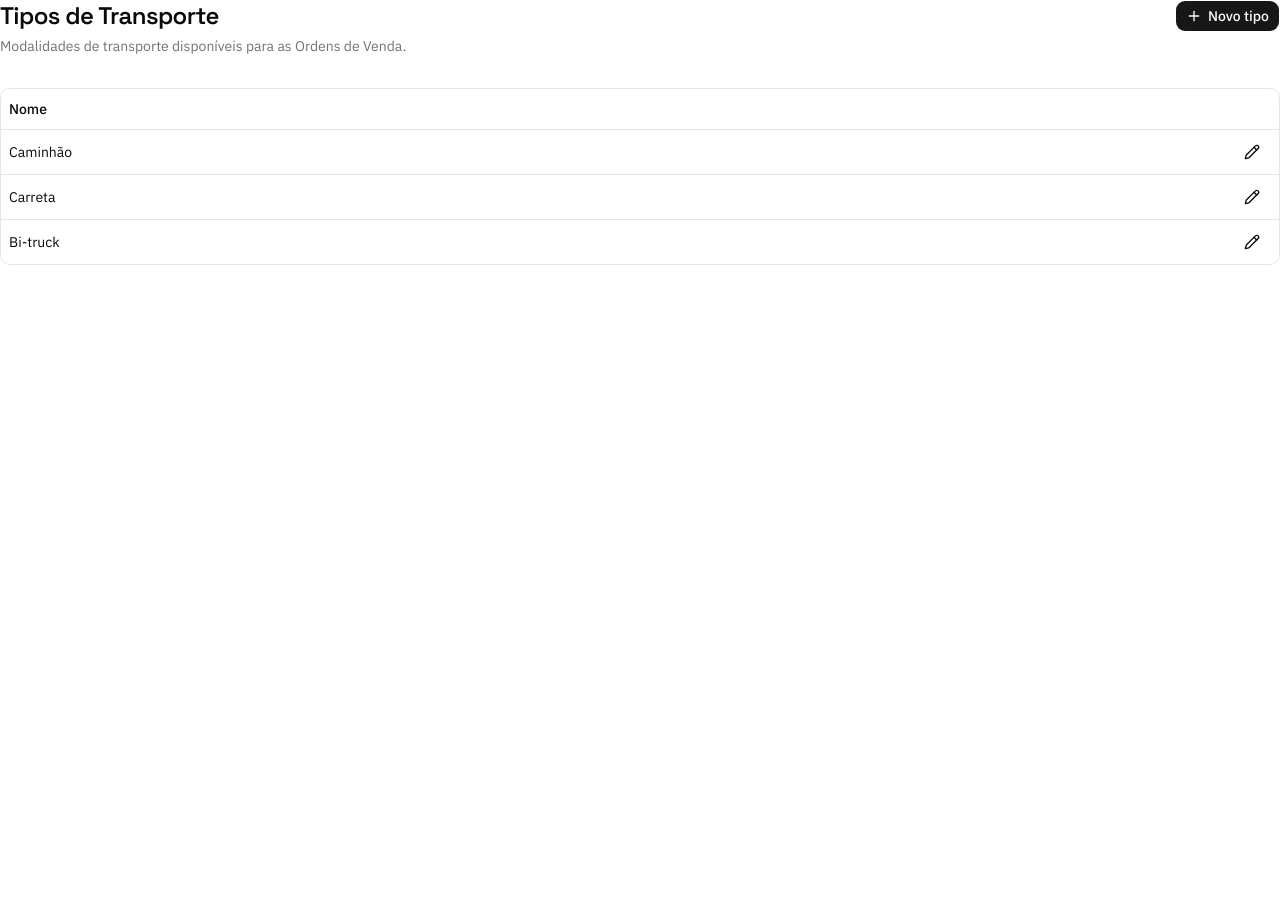
Scenario: TransportTypesView (integração) › edita um tipo de transporte existente
Expected: the text "Caminhão" is shown, [1, 129, 1215, 174]
Click the button named "Editar Caminhão" at point(1252, 152), box [1233, 138, 1271, 166]
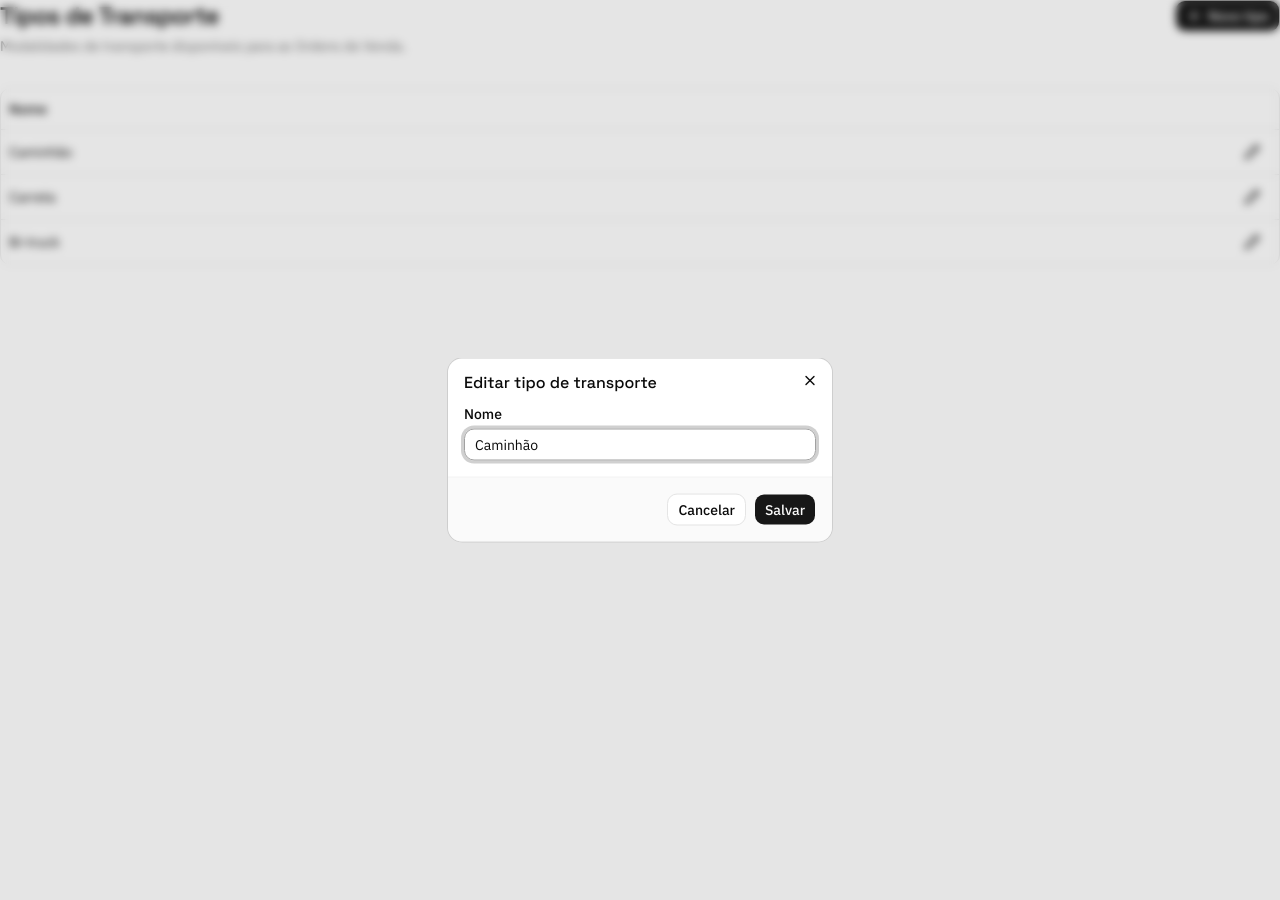
Replace the text in the field labelled "Nome" with "Caminhão Baú" at point(640, 444), box [464, 428, 816, 460]
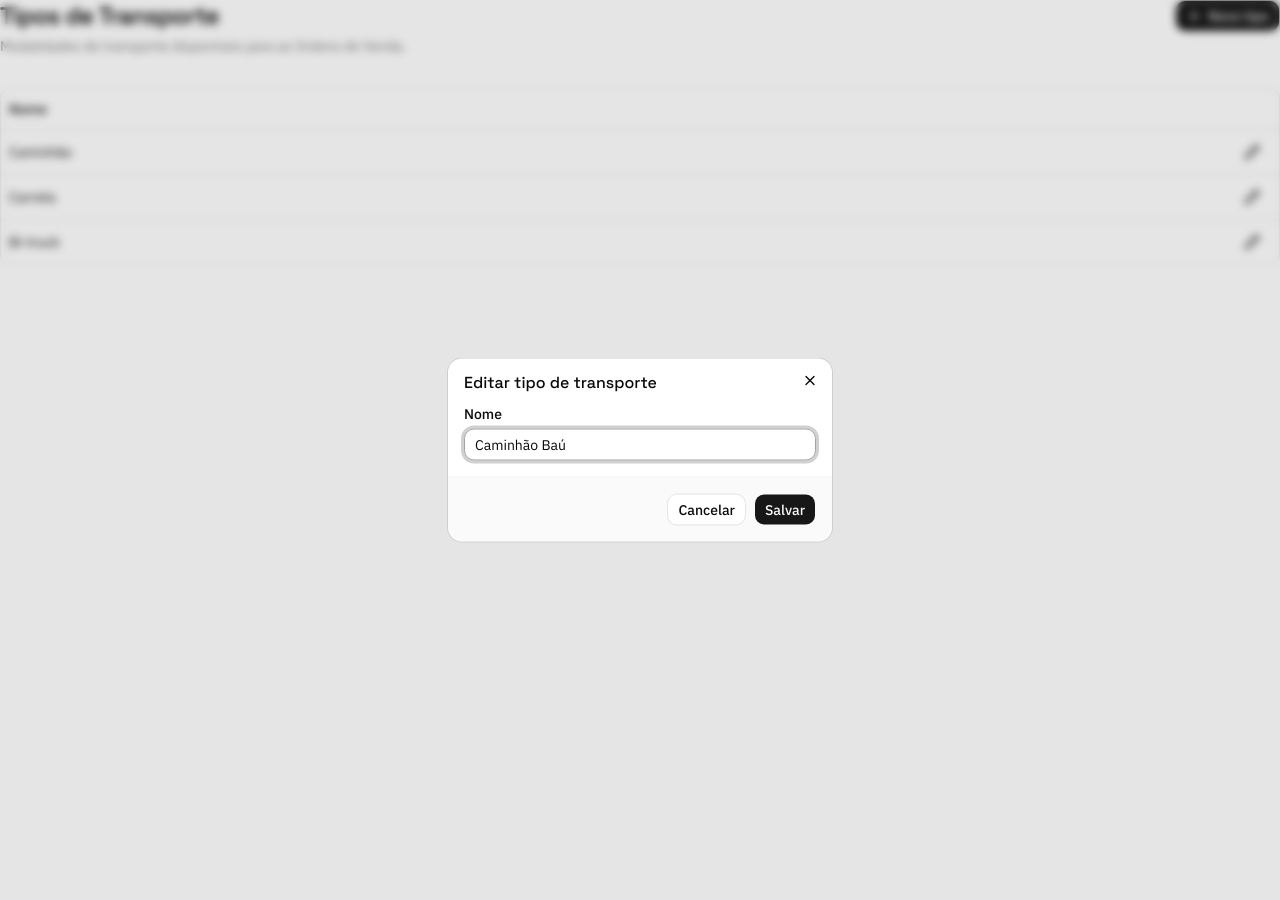
Click the button "Salvar" at point(785, 510), box [754, 494, 816, 526]
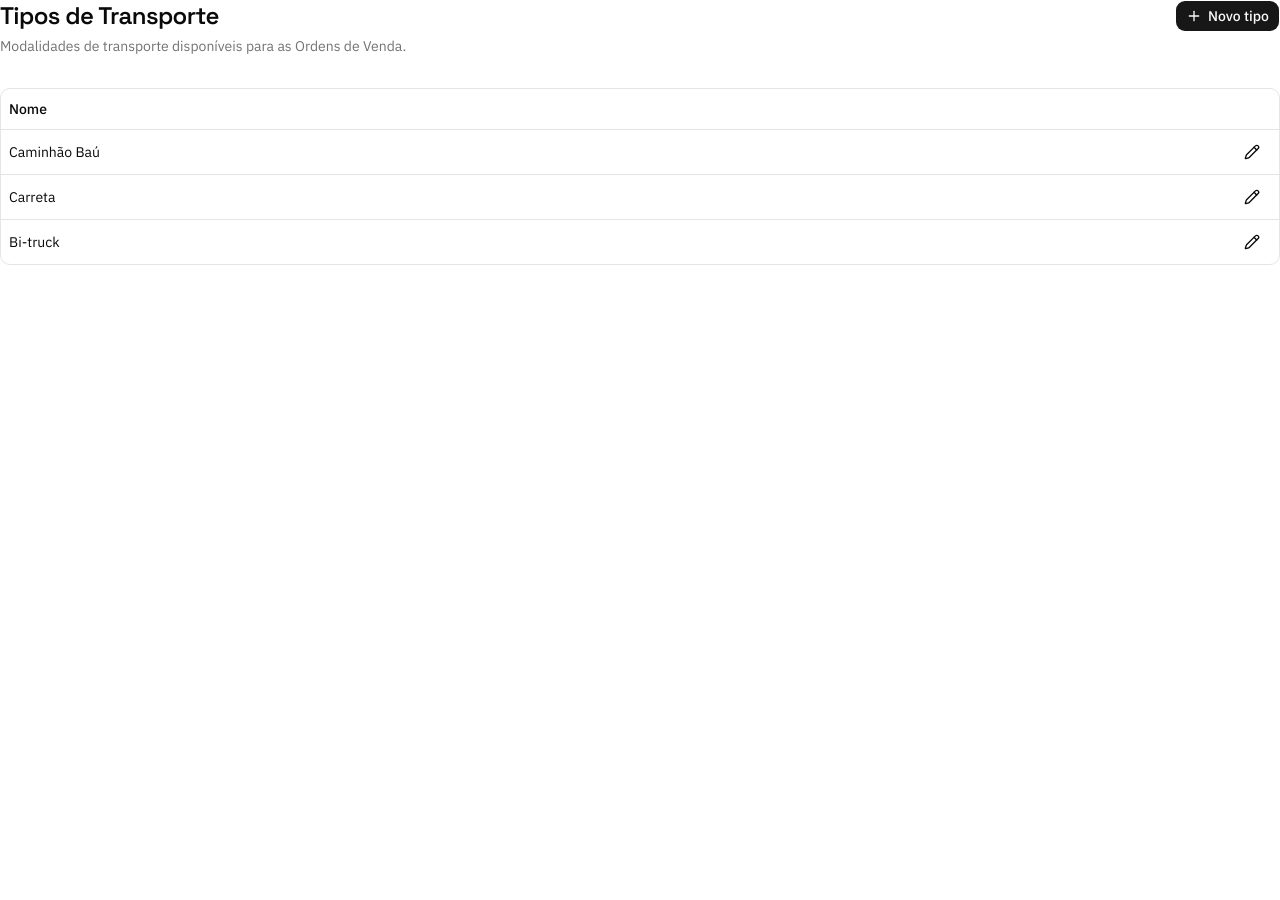
Expected: the text "Caminhão Baú" is shown, [1, 129, 1215, 174]
